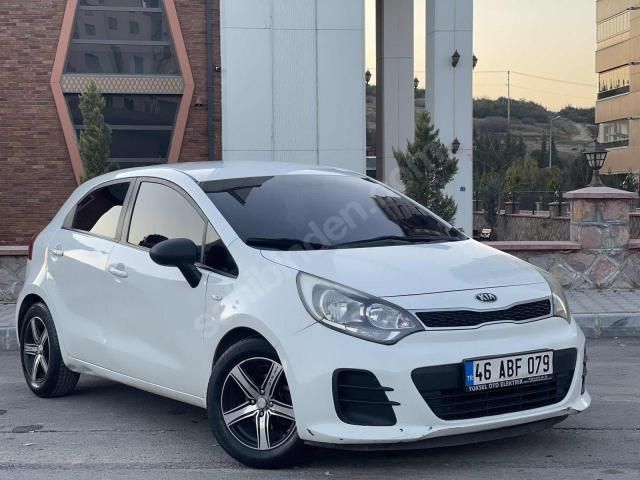plaka: (465, 351, 553, 391)
